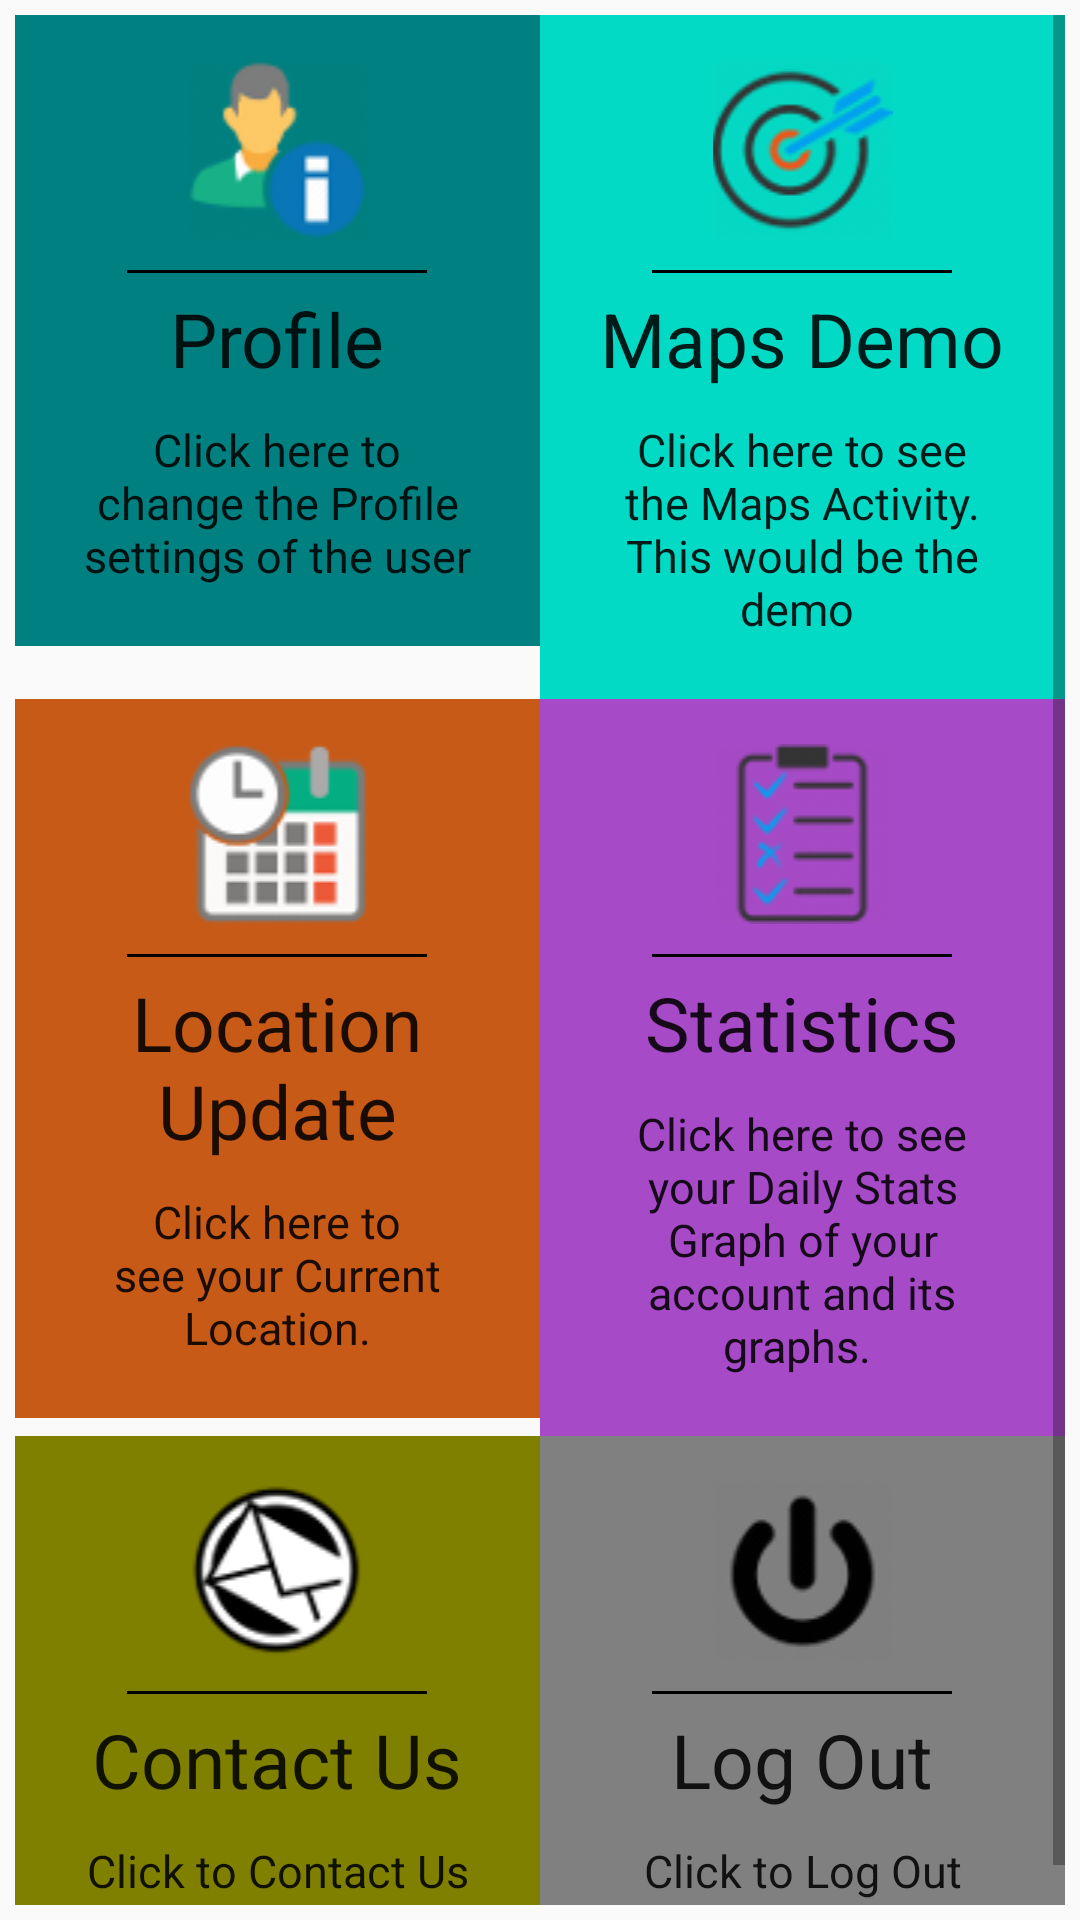

Named icons in this screenshot (1080×1920) and their bounding boxes, BBox(x1, y1, x2, y2):
monthly: BBox(190, 746, 366, 922)
userpro: BBox(192, 62, 364, 236)
